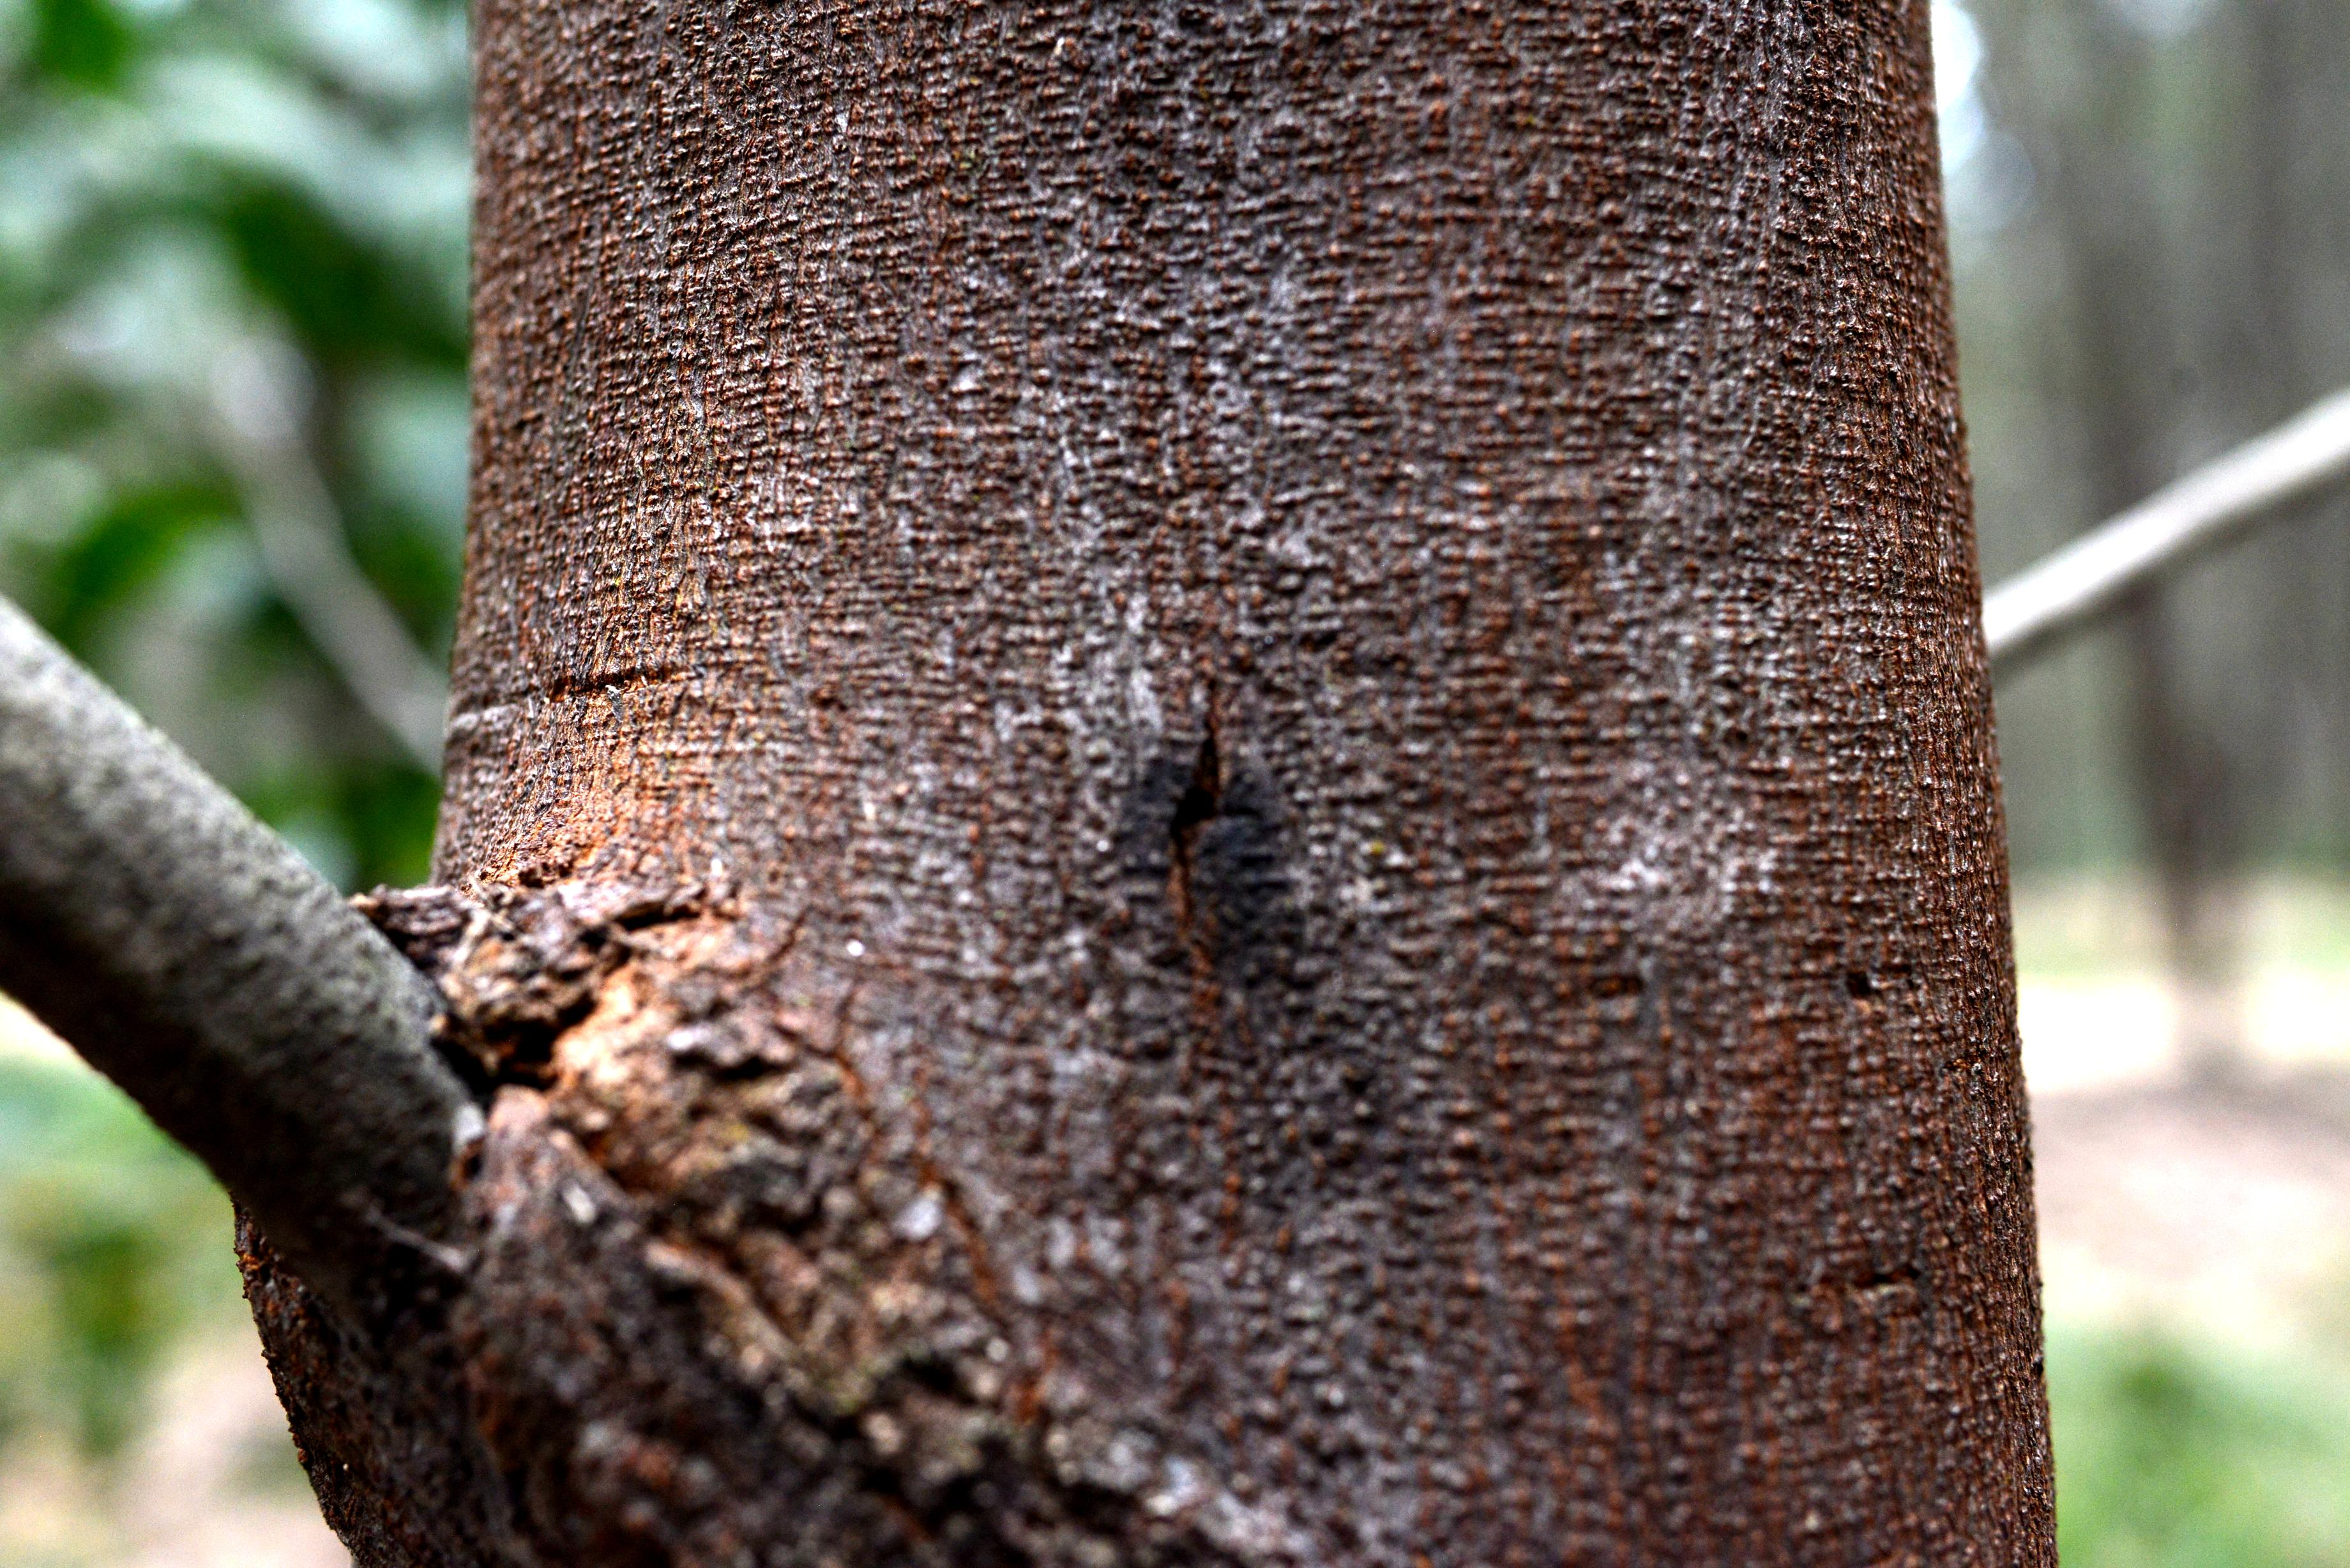Stem Borer: (1064, 649, 1323, 1095)
